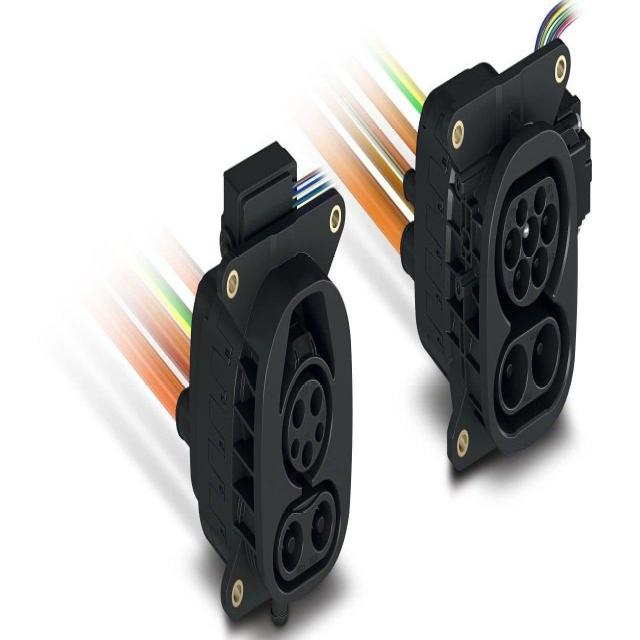inlet: (502, 177, 560, 306)
inlet-above-left: (516, 198, 528, 227)
inlet-above-right: (534, 186, 546, 216)
inlet-below-left: (513, 258, 530, 300)
inlet-below-right: (532, 247, 548, 288)
inlet-circle: (522, 215, 539, 258)
inlet-circle-left: (504, 227, 521, 270)
inlet-circle-right: (540, 203, 557, 246)
inlet-minus: (532, 323, 558, 389)
inlet-plus: (501, 344, 528, 410)
